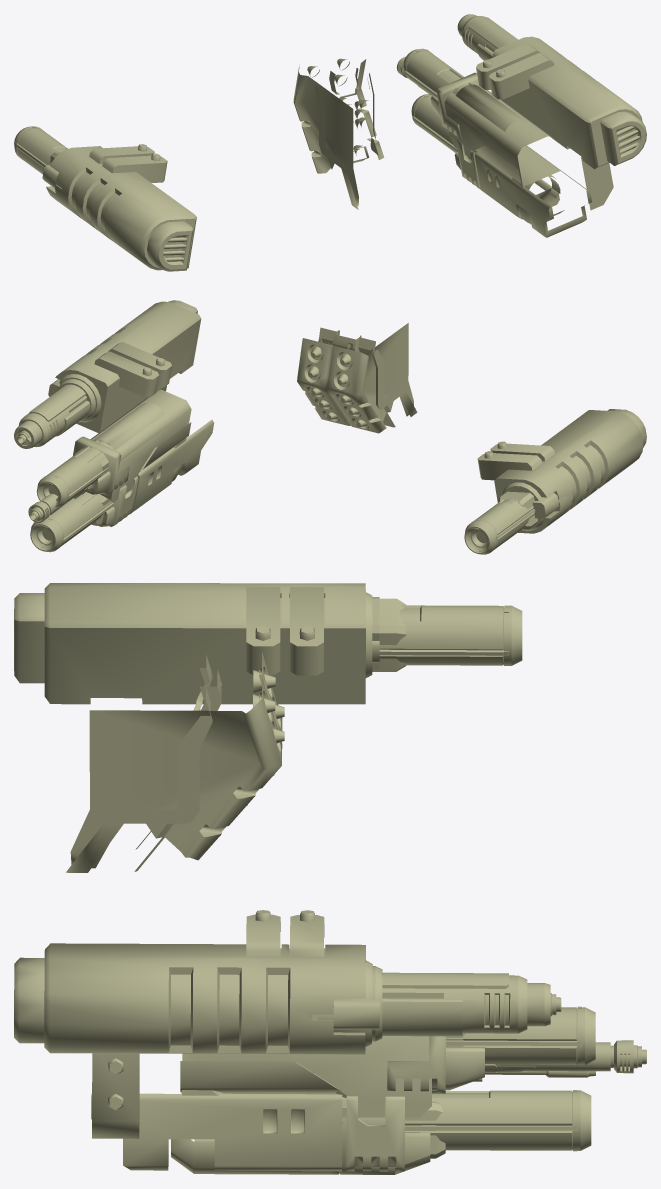
The model's file is PantherWeapons.glb.
The picture shows the model from 3 angles, top to bottom: view 1: azimuth 30°, elevation 25°; view 2: azimuth 150°, elevation 25°; view 3: azimuth 270°, elevation 25°; orthographic projection. The views are drawn at different scales.
Parts seen in each view (by area): view 1: Forearm_Right_BH1_MG, Forearm_Left_EH1_Laser, Forearm_Left_EH1_PPC, Torso_Center_MH1_Missile10, Forearm_Right_EH2_Laser, Forearm_Right_EH1_PPC, Forearm_Right_BH2_AC5, Forearm_Right_BH1_AC10, Forearm_Left_EH1_Flamer, Forearm_Right_EH2_PPC, Torso_Center_MH1_Missile2, Forearm_Right_EH2_Flamer (+2 smaller); view 2: Forearm_Right_BH1_MG, Torso_Center_MH1_Missile10, Forearm_Left_EH1_Laser, Forearm_Right_EH1_PPC, Forearm_Left_EH1_PPC, Forearm_Left_EH1_Flamer, Forearm_Right_BH1_AC10, Forearm_Right_EH2_Laser, Forearm_Right_EH2_PPC, Forearm_Right_BH2_AC5, Torso_Center_MH1_Missile5, Forearm_Right_BH1_AC2 (+2 smaller); view 3: Forearm_Left_EH1_PPC, Forearm_Right_BH1_MG, Forearm_Right_BH1_AC10, Torso_Center_MH1_Missile10, Forearm_Right_EH2_Flamer, Forearm_Left_EH1_Laser, Forearm_Right_EH2_PPC, Forearm_Right_BH1_AC5, Forearm_Right_BH2_MG, Forearm_Right_EH1_PPC, Forearm_Right_EH1_Laser, Torso_Center_MH1_Missile2 (+3 smaller).
Part boxes in pixels (left/top/right/bottom): Forearm_Right_BH1_MG: left=476, top=36, right=645, bottom=210; Forearm_Left_EH1_Laser: left=44, top=146, right=193, bottom=266; Forearm_Left_EH1_PPC: left=14, top=126, right=196, bottom=270; Torso_Center_MH1_Missile10: left=293, top=58, right=384, bottom=206; Forearm_Right_EH2_Laser: left=456, top=140, right=586, bottom=236; Forearm_Right_EH1_PPC: left=403, top=48, right=526, bottom=183; Forearm_Right_BH2_AC5: left=396, top=56, right=553, bottom=183; Forearm_Right_BH1_AC10: left=457, top=14, right=646, bottom=168; Forearm_Left_EH1_Flamer: left=42, top=144, right=188, bottom=271; Forearm_Right_EH2_PPC: left=411, top=94, right=564, bottom=224; Torso_Center_MH1_Missile2: left=315, top=69, right=378, bottom=209; Forearm_Right_EH2_Flamer: left=456, top=142, right=591, bottom=237; Forearm_Right_BH1_MG: left=25, top=300, right=201, bottom=444; Torso_Center_MH1_Missile10: left=297, top=323, right=413, bottom=433; Forearm_Left_EH1_Laser: left=479, top=409, right=646, bottom=530; Forearm_Right_EH1_PPC: left=36, top=402, right=191, bottom=507; Forearm_Left_EH1_PPC: left=464, top=409, right=625, bottom=554; Forearm_Left_EH1_Flamer: left=479, top=440, right=642, bottom=533; Forearm_Right_BH1_AC10: left=14, top=371, right=181, bottom=448; Forearm_Right_EH2_Laser: left=91, top=419, right=214, bottom=526; Forearm_Right_EH2_PPC: left=30, top=463, right=183, bottom=552; Forearm_Right_BH2_AC5: left=28, top=389, right=191, bottom=523; Torso_Center_MH1_Missile5: left=318, top=328, right=416, bottom=427; Forearm_Right_BH1_AC2: left=17, top=349, right=181, bottom=444; Forearm_Left_EH1_PPC: left=14, top=587, right=522, bottom=704; Forearm_Right_BH1_MG: left=14, top=910, right=379, bottom=1099; Forearm_Right_BH1_AC10: left=14, top=917, right=550, bottom=1138; Torso_Center_MH1_Missile10: left=70, top=652, right=284, bottom=868; Forearm_Right_EH2_Flamer: left=91, top=1099, right=404, bottom=1171; Forearm_Left_EH1_Laser: left=14, top=583, right=406, bottom=671; Forearm_Right_EH2_PPC: left=171, top=1090, right=591, bottom=1174; Forearm_Right_BH1_AC5: left=14, top=916, right=552, bottom=1121; Forearm_Right_BH2_MG: left=182, top=1036, right=595, bottom=1117; Forearm_Right_EH1_PPC: left=295, top=1006, right=595, bottom=1090; Forearm_Right_EH1_Laser: left=180, top=1033, right=465, bottom=1093; Torso_Center_MH1_Missile2: left=73, top=667, right=221, bottom=872.
Size of the model in its own units: 1.44 by 0.5437 by 0.9321.
